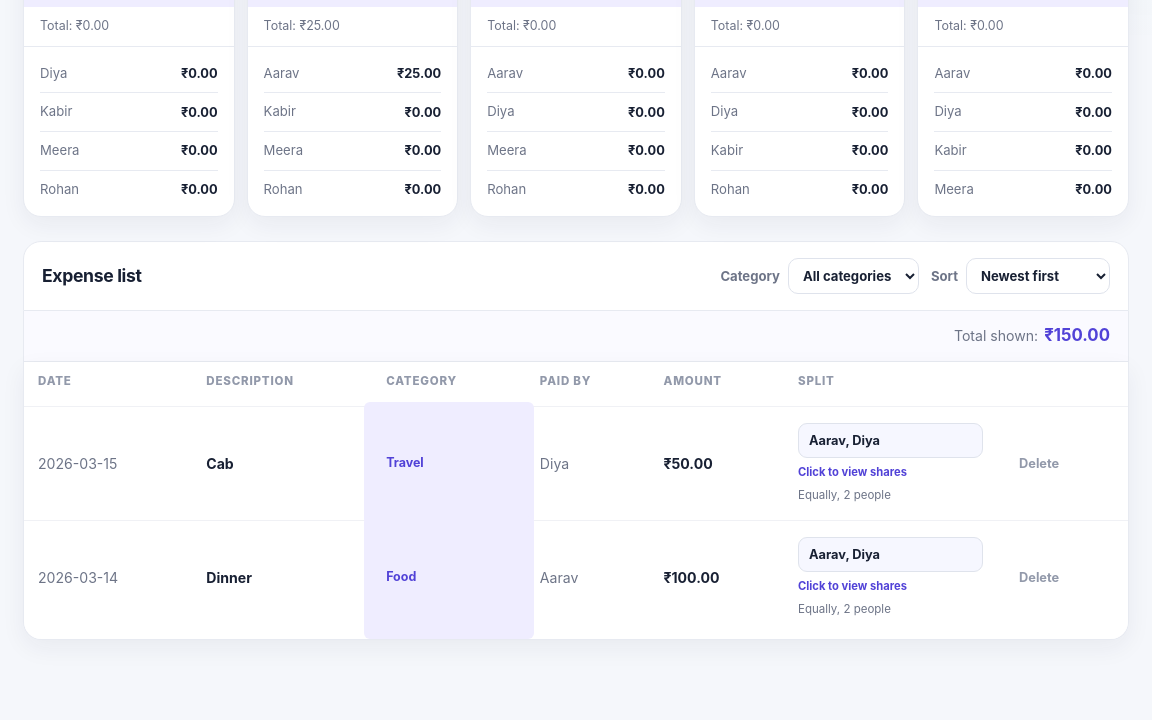
Test: ExpensesPage › shows each member share in the split details
(page scrolled)
Expected: the text "Dinner" is shown, [206,569,252,586]
Click the button with aria-label "View split for Dinner". click: (890,555)
box: [798,537,983,572]
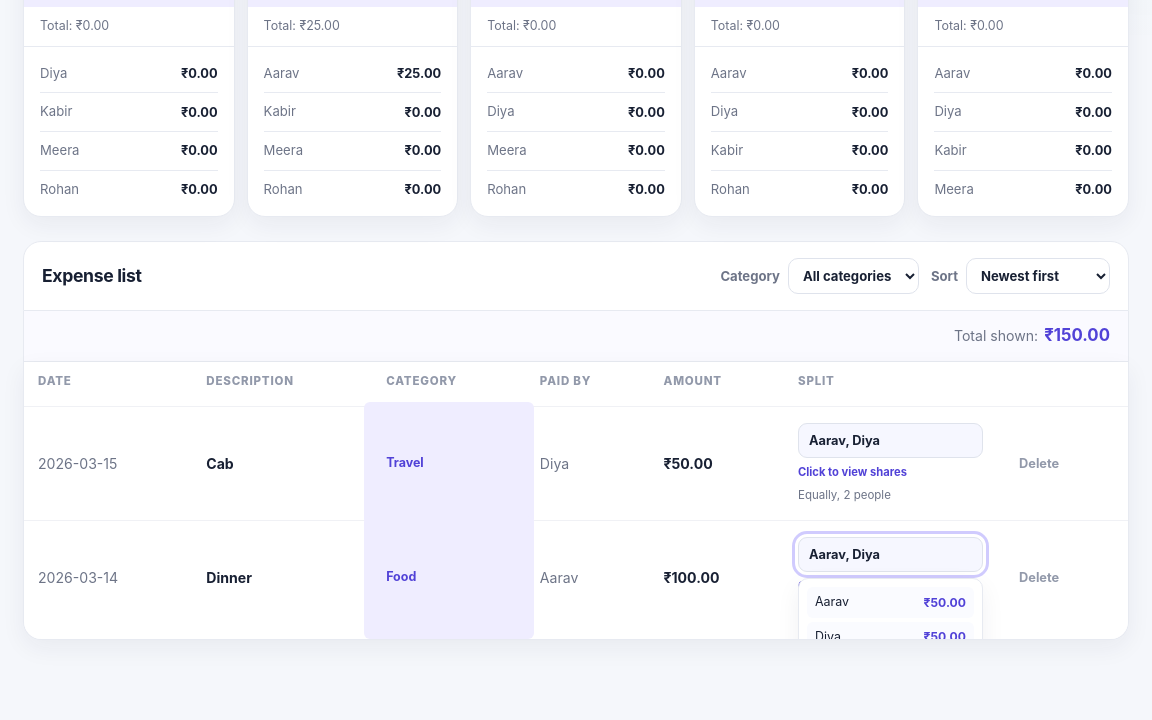
Expected: the text "Aarav" below "₹100.00" is shown, [815,594,849,609]
Expected: the text "Diya" below "₹100.00" is shown, [815,629,841,640]
Expected: the text "₹50.00" is shown 2 times, [924,594,966,612]; [924,628,966,640]
